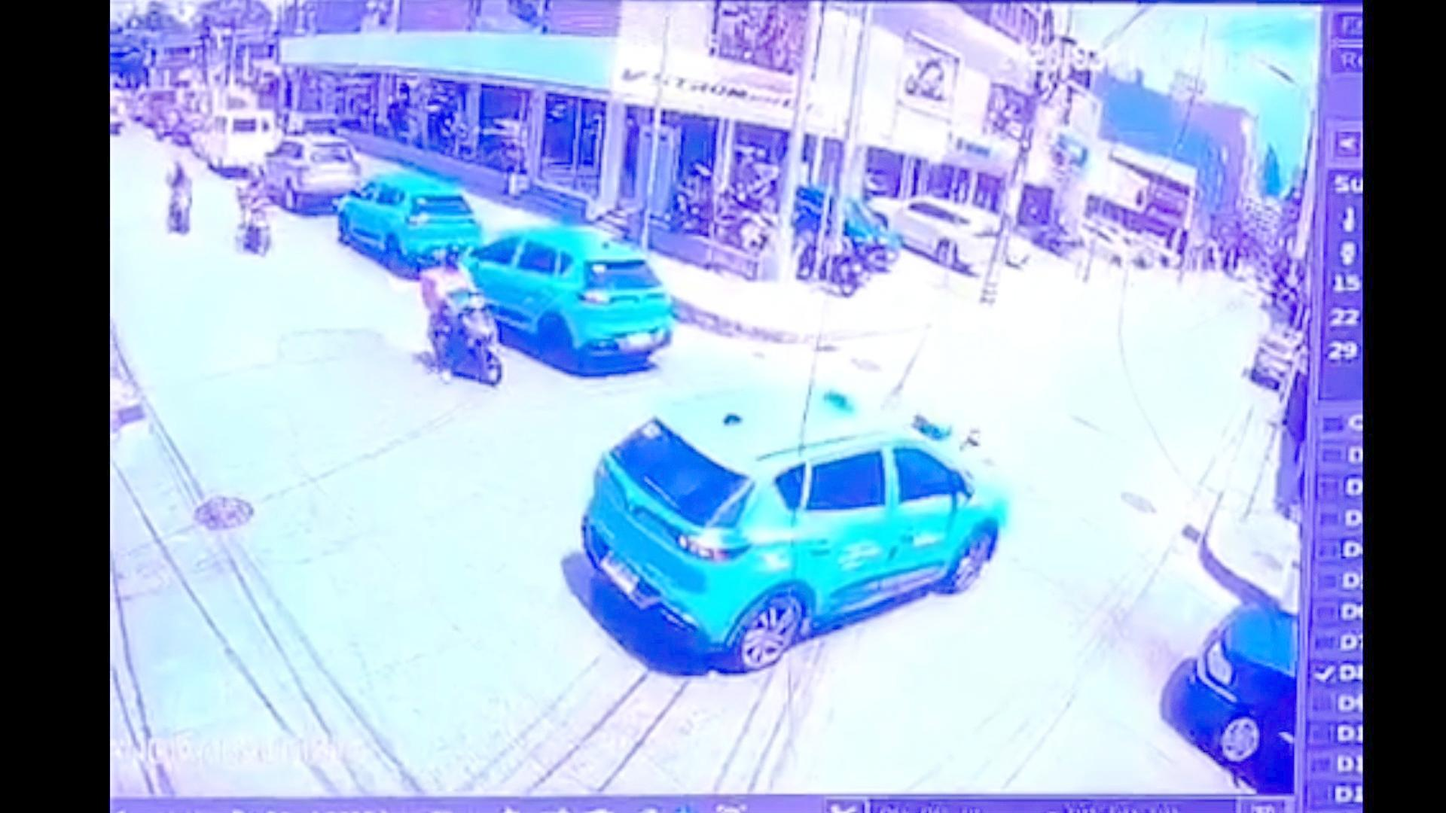Car: (585, 389, 998, 664), (458, 222, 675, 372), (1163, 595, 1299, 792), (340, 177, 478, 276), (874, 195, 1015, 272), (788, 183, 903, 275), (264, 134, 364, 209), (192, 109, 281, 176), (1076, 217, 1163, 268), (1246, 319, 1305, 390), (139, 89, 189, 139)
Minor Accident: (584, 388, 1003, 668)
Motor: (828, 390, 998, 480), (420, 257, 505, 386), (792, 224, 868, 297), (234, 172, 273, 251), (165, 160, 193, 233)
